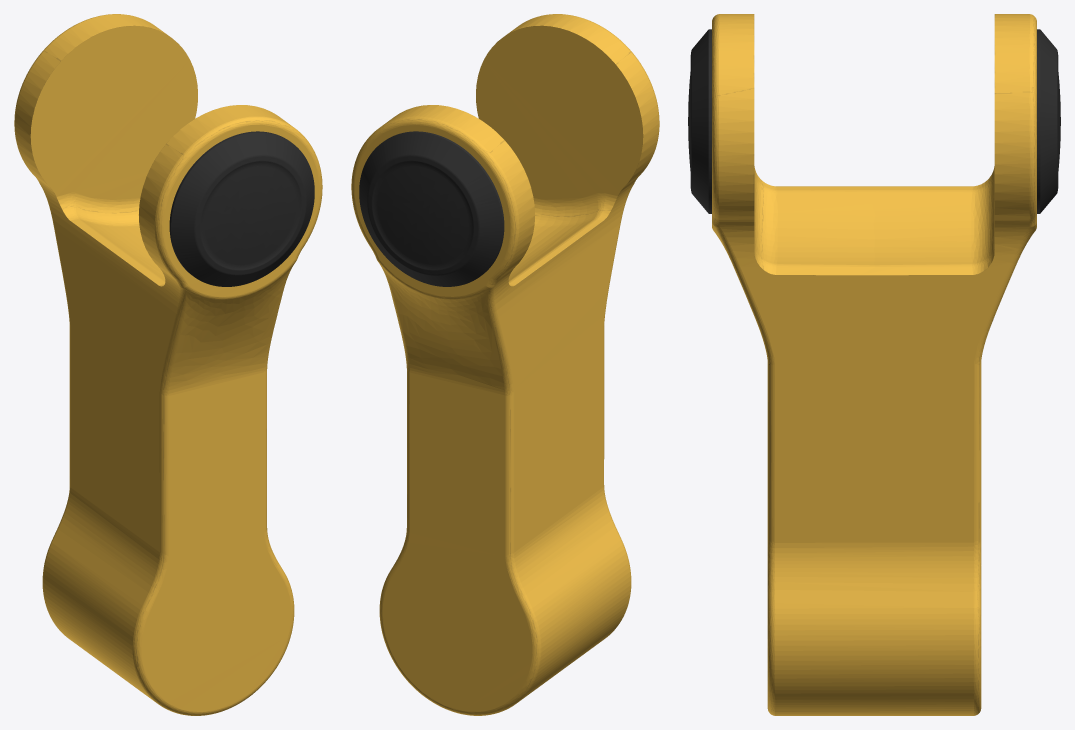
The model's file is torso2.obj.
The picture shows the model from 3 angles, left to right: view 1: azimuth 30°, elevation 25°; view 2: azimuth 150°, elevation 25°; view 3: azimuth 270°, elevation 25°; orthographic projection. The views are drawn at different scales.
Parts seen in each view (by area): view 1: body2_001-mesh; view 2: body2_001-mesh; view 3: body2_001-mesh.
Part boxes in pixels (x1,y1,x2,y2): body2_001-mesh: (14, 14, 322, 715); body2_001-mesh: (351, 14, 659, 715); body2_001-mesh: (688, 14, 1060, 715).
Size of the model in its own units: 0.135 by 0.4725 by 0.234.
Materials: 1 (1 with a texture image).
